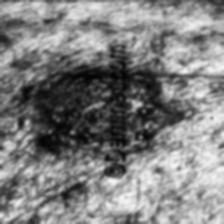Toxin: (23, 71, 170, 156)
